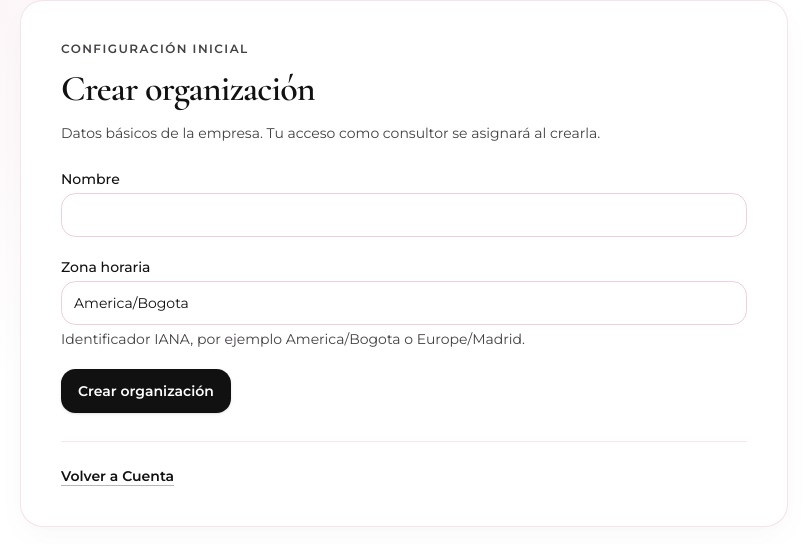
Test: Create organization › removes the form if authorization expires with 401
Step 1. Type "Empresa Real" into the field labelled "Nombre" → [404, 215], box [61,193,747,237]
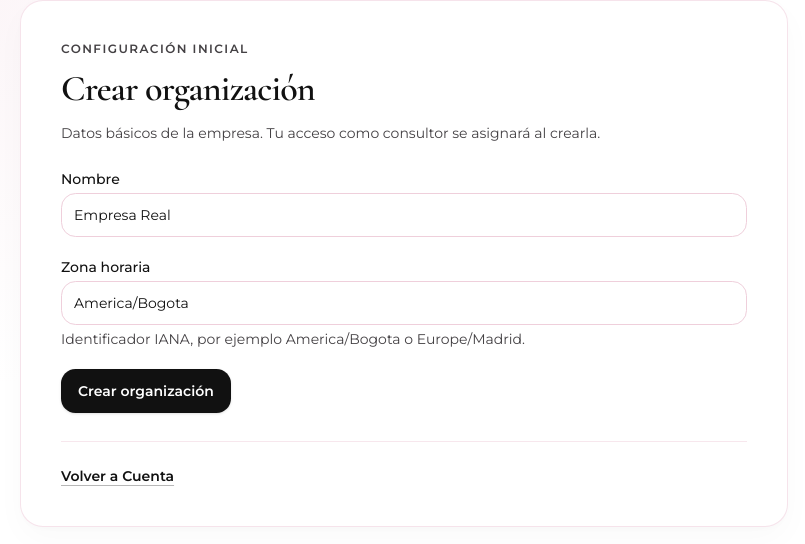
Step 2. Replace the text in the field labelled "Zona horaria" with "Europe/Madrid" → [404, 303], box [61,281,747,325]
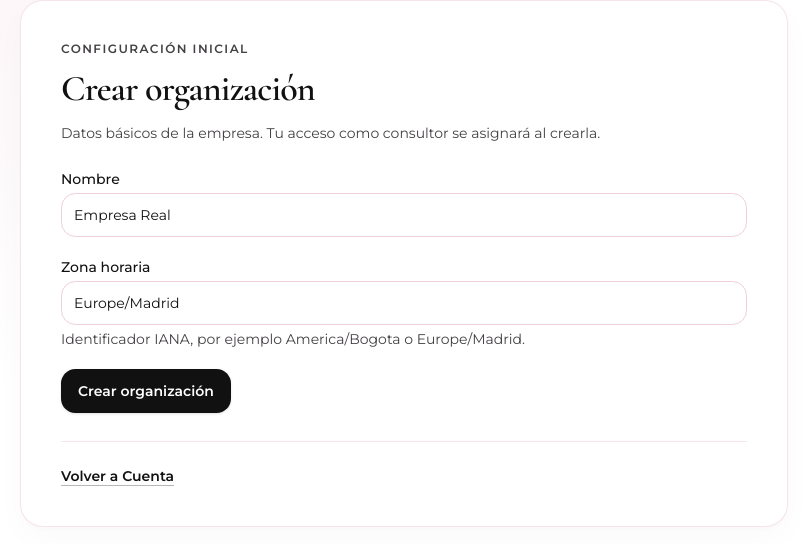
Step 3. Submit the form named "Crear organización", box [61,169,747,413]
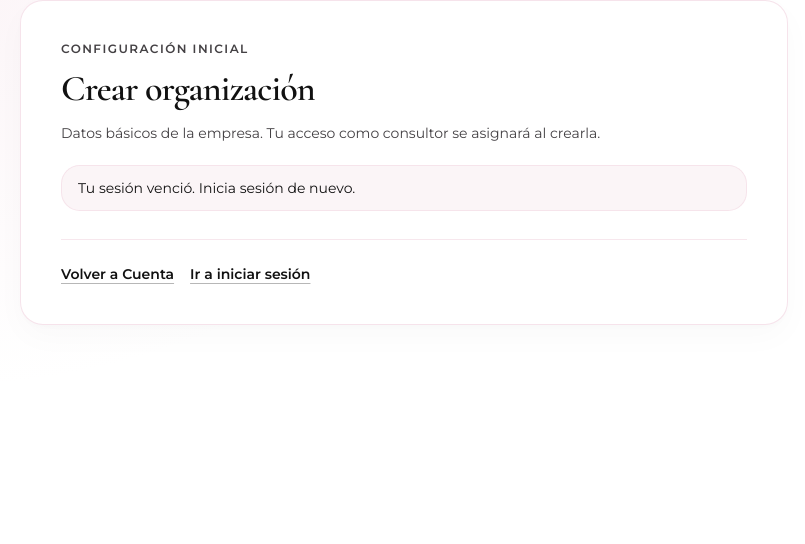
Expected: the label labelled "Nombre" is gone
Expected: the link "Ir a iniciar sesión" is shown, [190,264,310,284]
